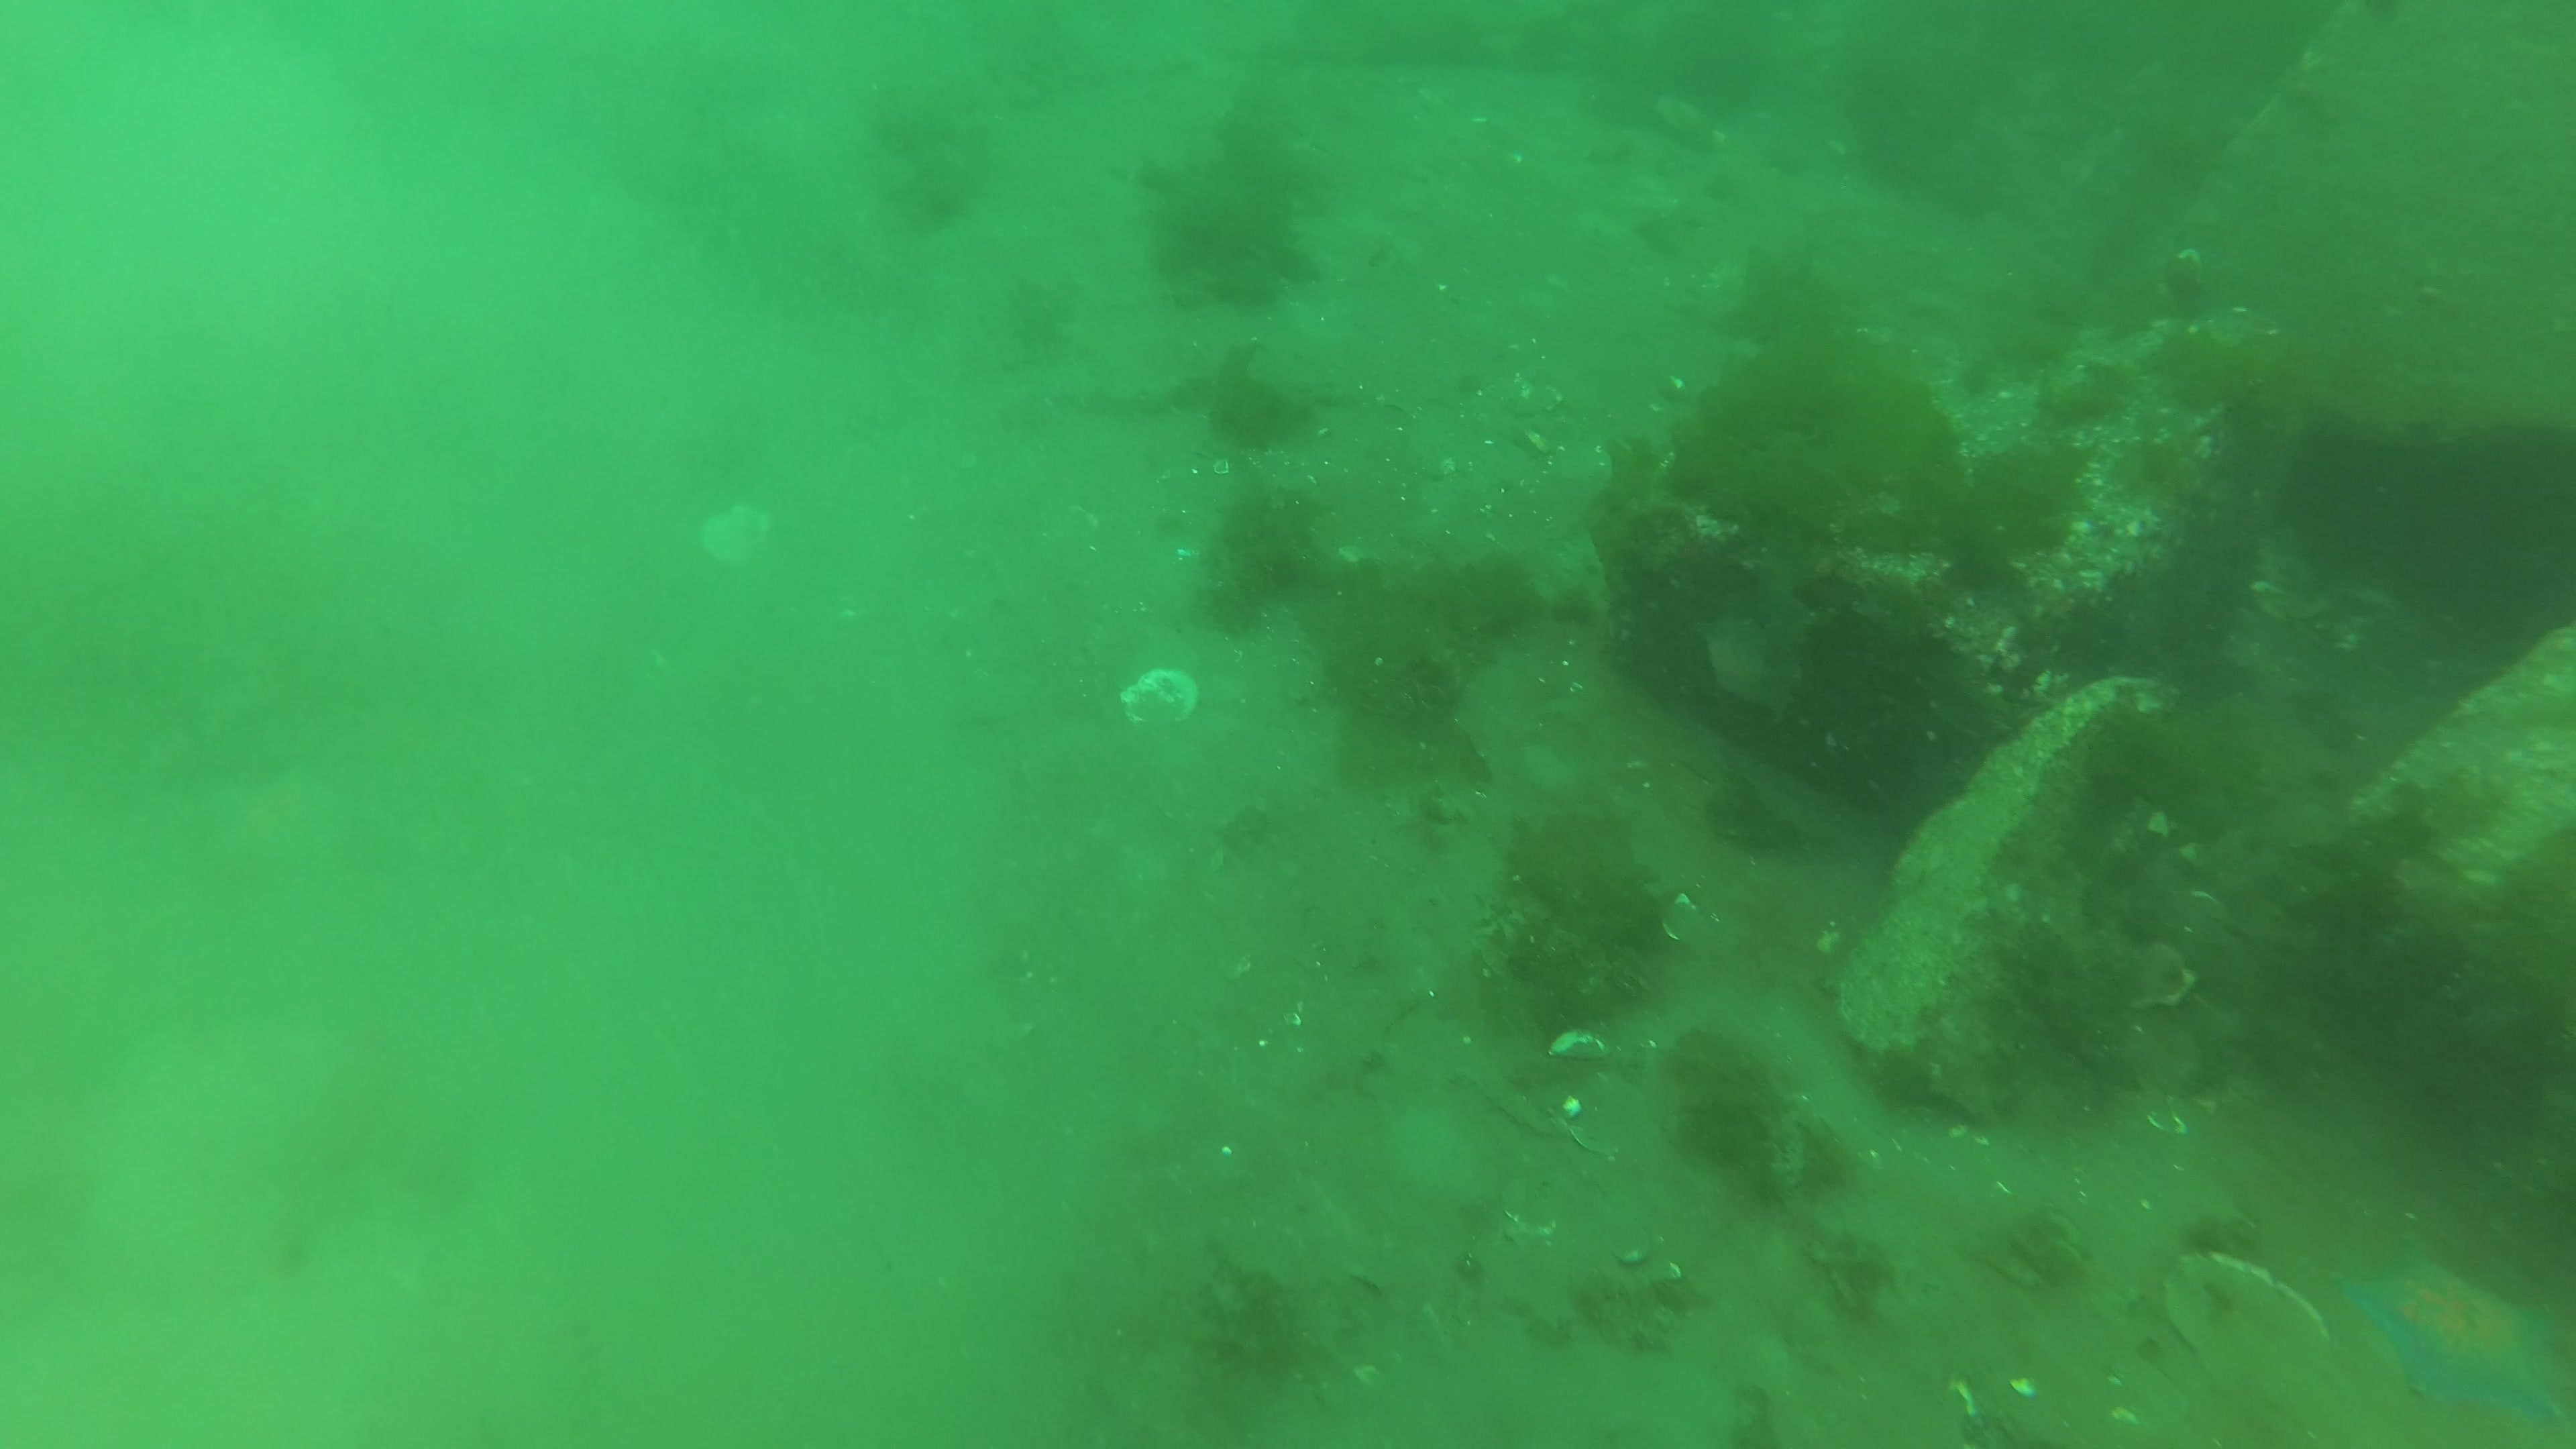holothurian: (1051, 373, 1214, 418)
scallop: (2146, 1235, 2312, 1371), (1120, 672, 1200, 731), (694, 513, 766, 570)
starfish: (2346, 1246, 2564, 1417), (202, 773, 350, 874), (1698, 610, 1799, 717)
